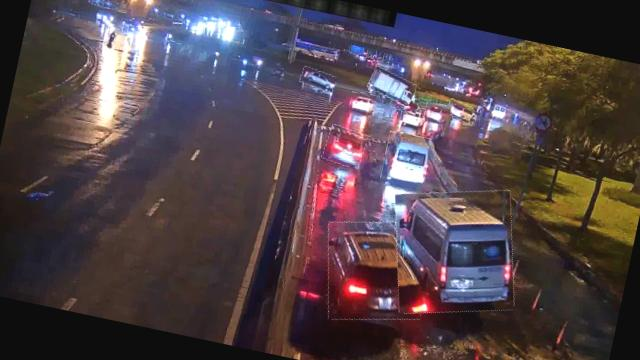Bike: (102, 26, 120, 49), (120, 47, 136, 72)
Bus: (378, 174, 530, 329), (380, 130, 434, 186)
Car: (314, 208, 435, 333), (322, 124, 368, 168), (299, 67, 337, 92), (348, 91, 378, 114), (424, 101, 452, 125), (445, 99, 474, 122), (390, 92, 420, 114), (399, 104, 426, 128)
Truck: (366, 68, 418, 105)
